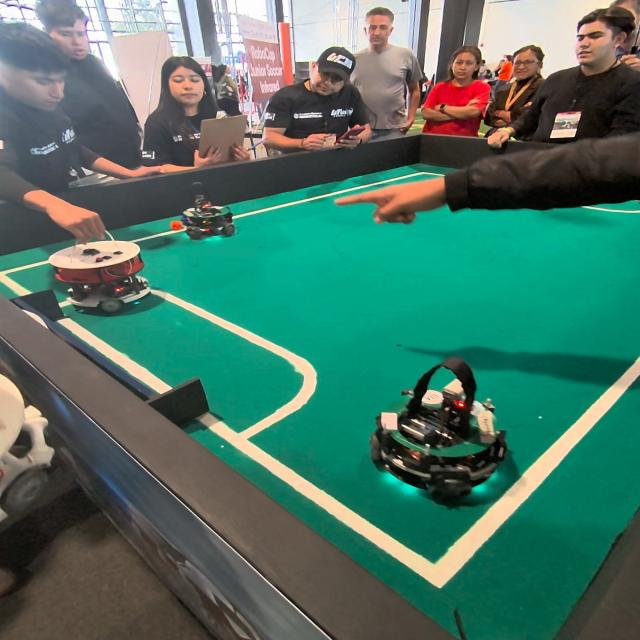Robot: (357, 351, 514, 517), (46, 211, 150, 320), (181, 193, 239, 240)
pelota: (171, 220, 182, 229)
